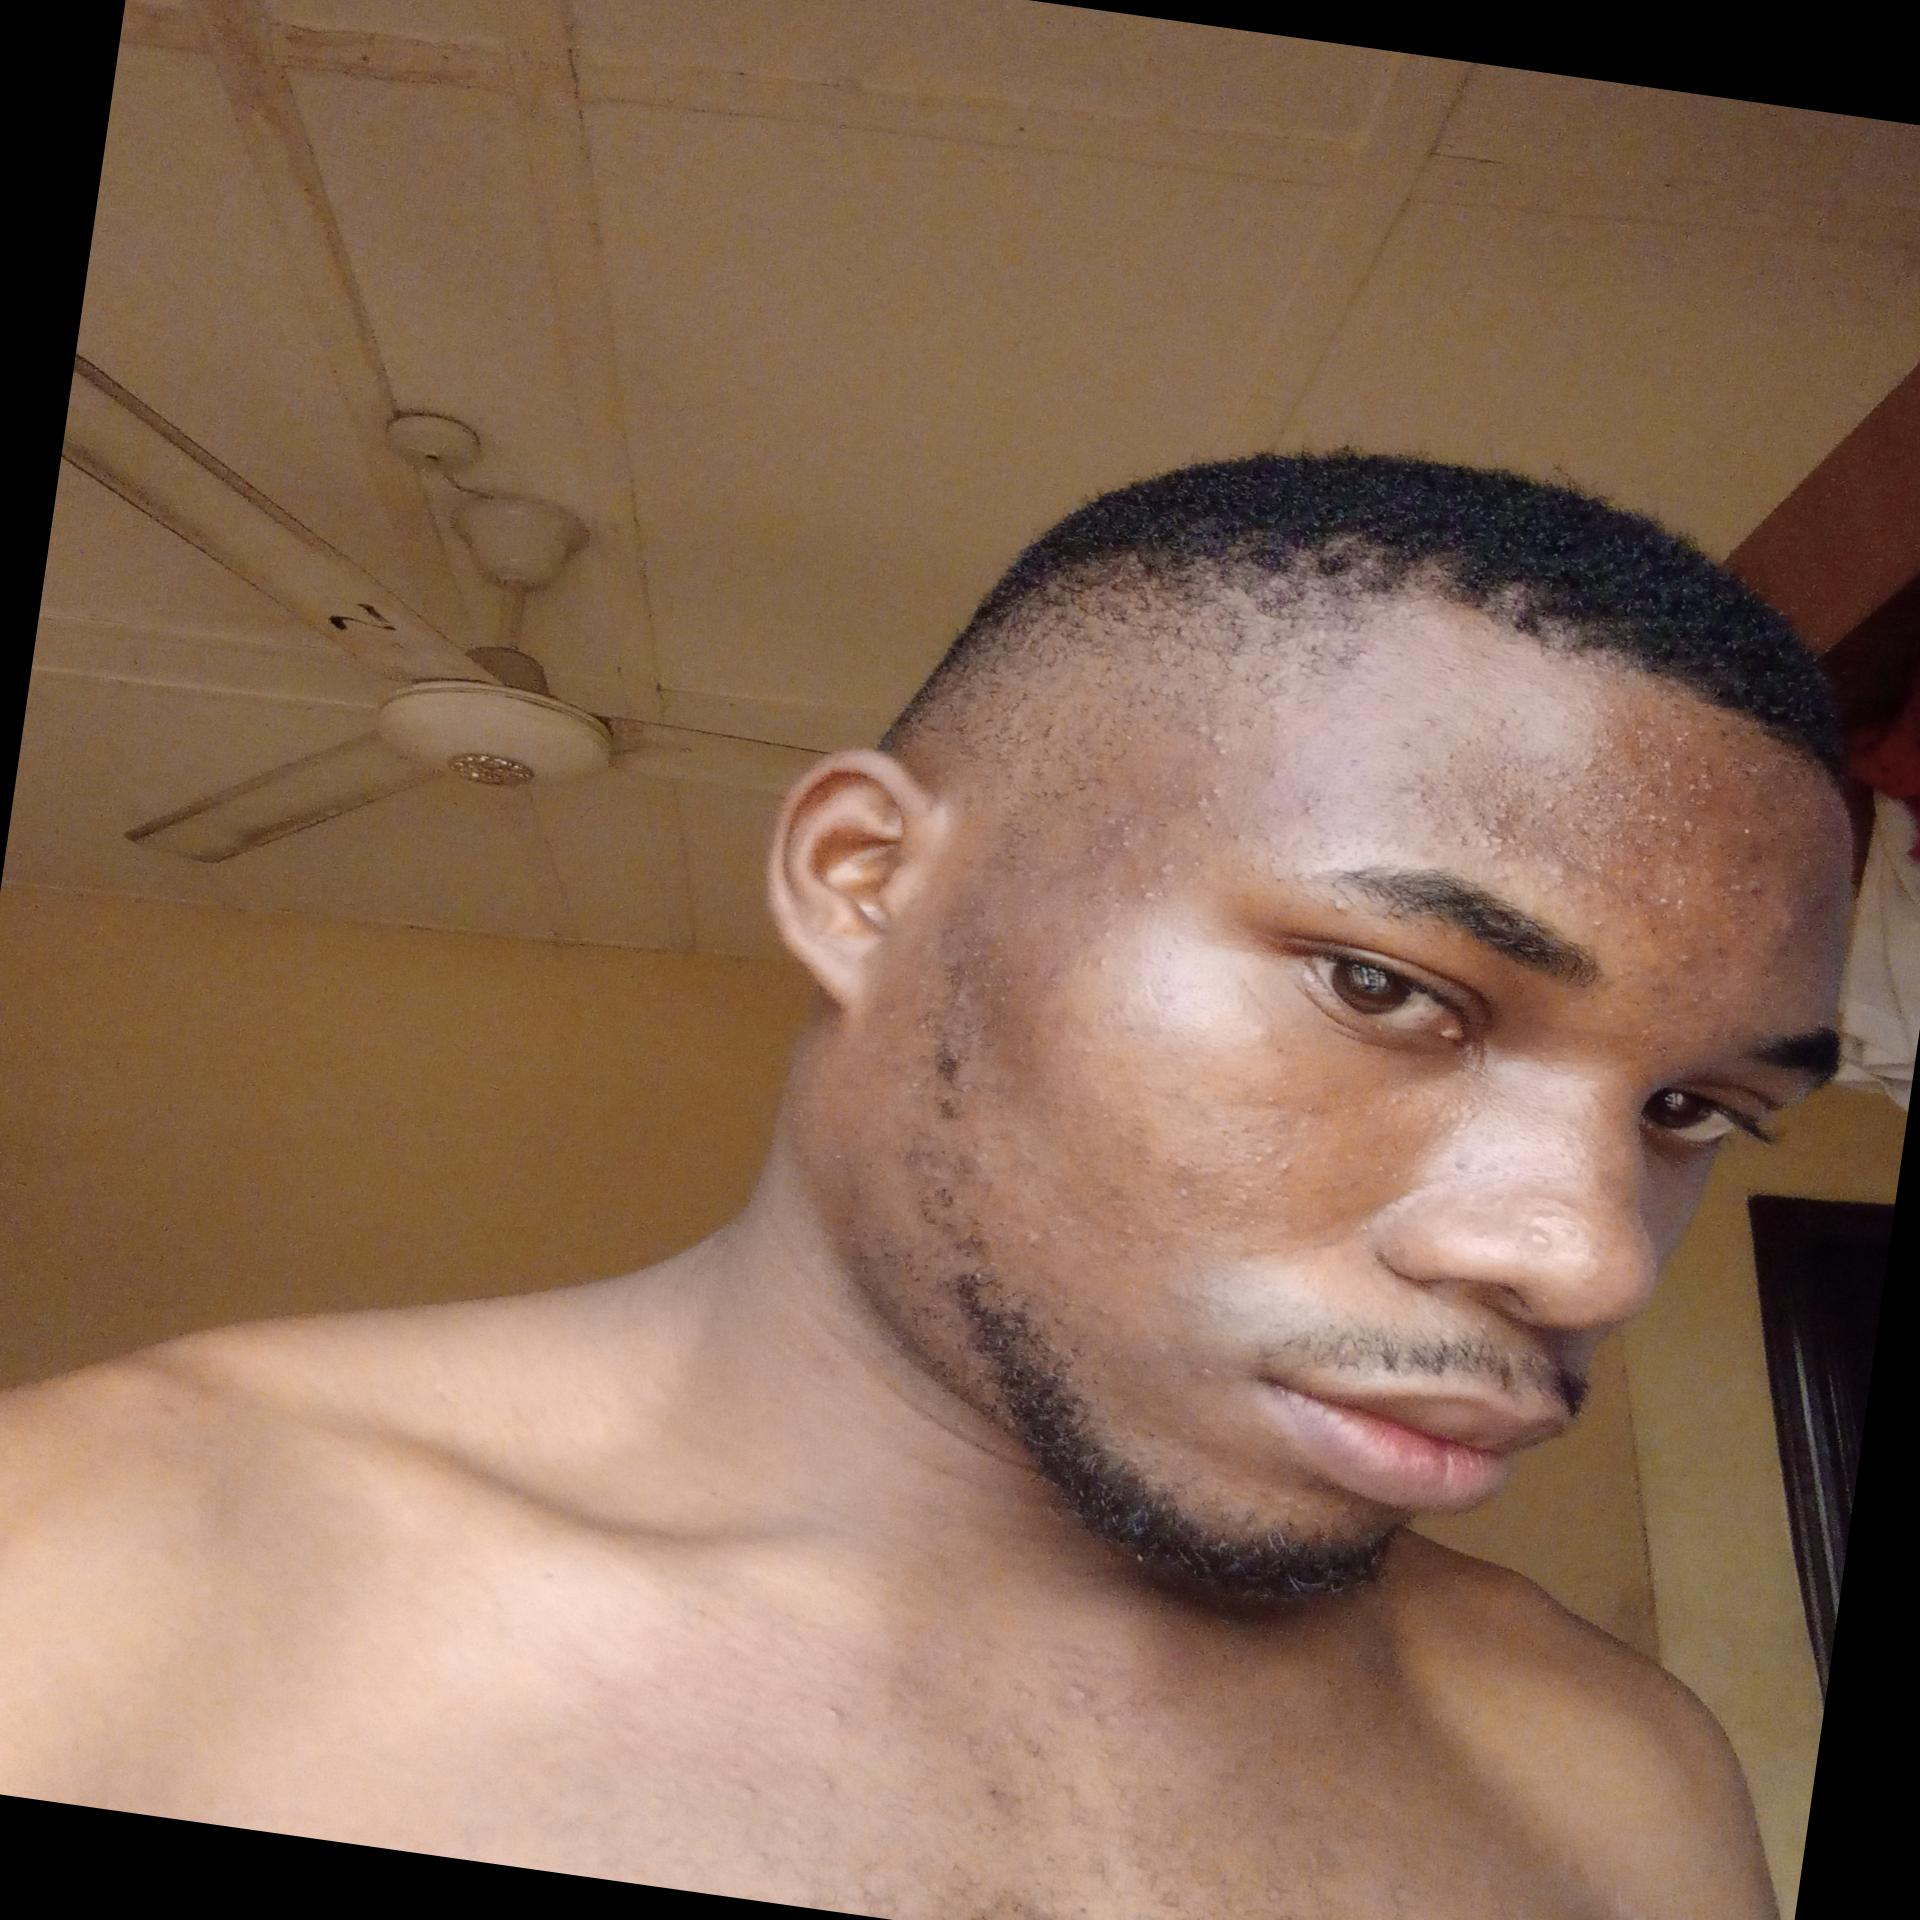Acne: (1575, 812, 1707, 867), (1707, 723, 1776, 784), (1514, 1194, 1577, 1259), (1136, 851, 1194, 911), (1081, 809, 1153, 856), (1739, 796, 1786, 869), (1588, 765, 1660, 811), (1185, 774, 1225, 851), (1183, 712, 1247, 758), (1674, 760, 1727, 804), (1646, 891, 1709, 921), (1586, 851, 1644, 883), (1630, 721, 1695, 747), (1727, 870, 1776, 904), (1264, 1139, 1310, 1175), (1669, 946, 1704, 976), (1639, 802, 1674, 828), (1078, 884, 1109, 911), (1190, 1359, 1224, 1382), (1324, 895, 1359, 916), (1586, 913, 1616, 935), (1292, 796, 1327, 816), (1268, 761, 1287, 784)
Blackhead: (1405, 728, 1575, 870)
Englarged Pores: (1169, 1118, 1322, 1248)
